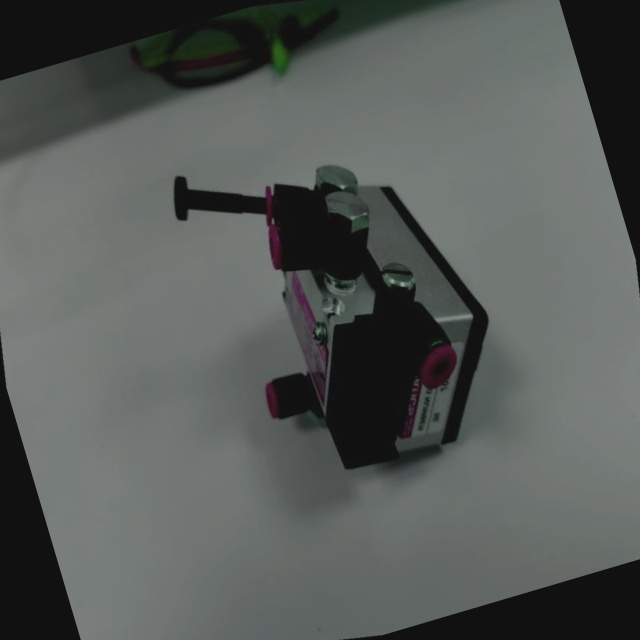5by2 DCV: (103, 82, 564, 552)
